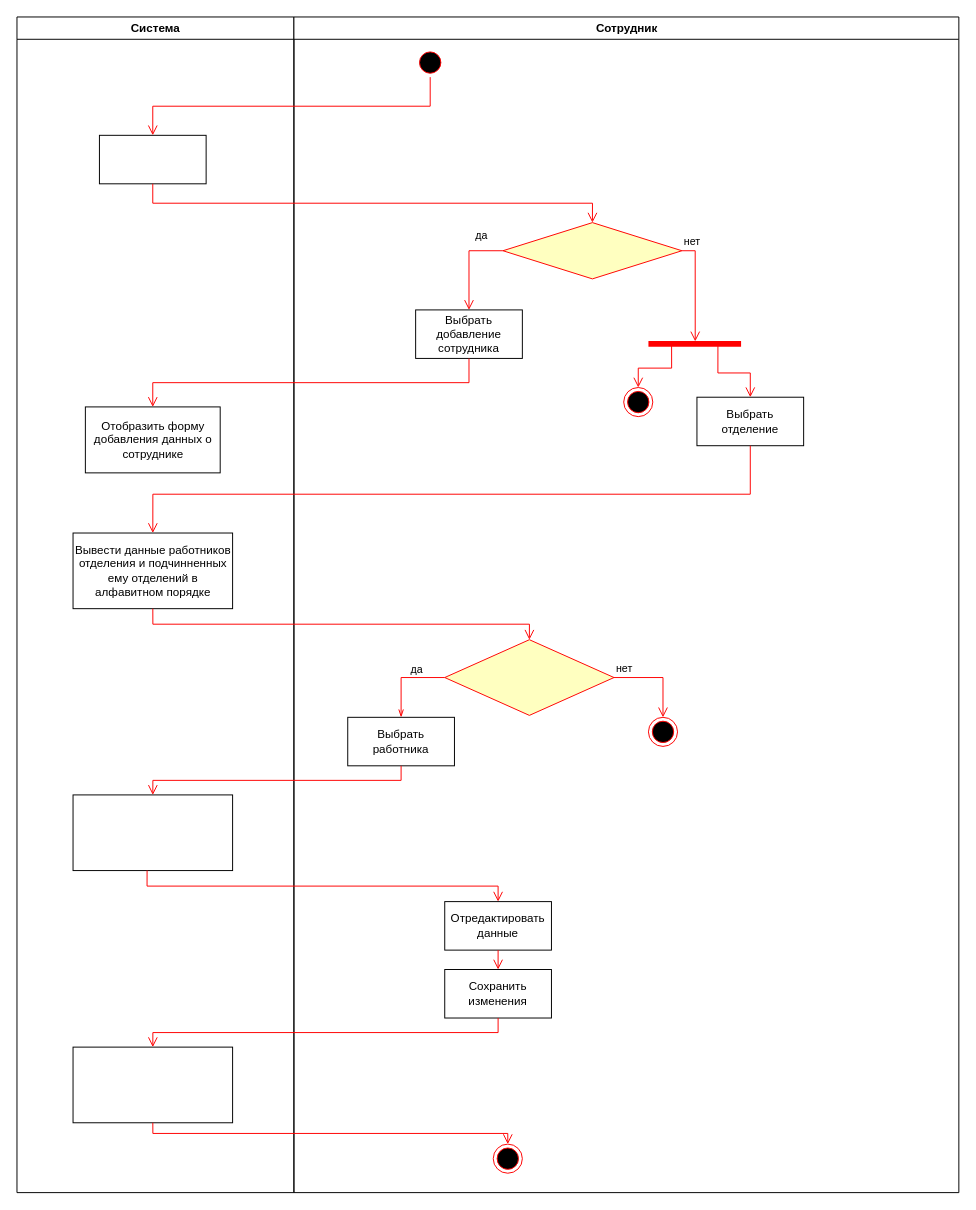
Image size: 976x1210. Some labels were removed from this diagram. Here are the shapes that lost their labels. From the top down, the centre of each, then its label:
the point at 152,159: Вывести данные об отделениях
the point at 592,250: Хотите добавить данные о сотруднике?
the point at 529,677: Хотите отредактировать данные о сотруднике
the point at 152,832: Отобразить данные о выбранном работнике
the point at 152,1084: Сохраниить изменения в БД
